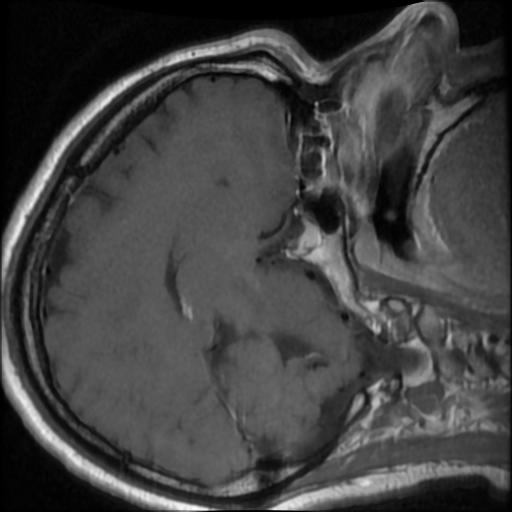pituitary tumour: (288, 216, 323, 258)
